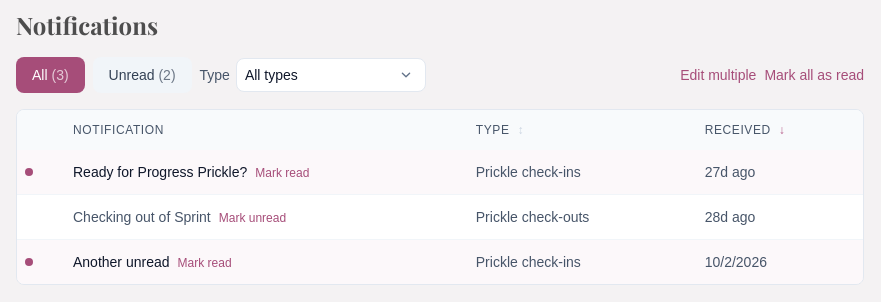
Test: /notifications › opening an unread one marks it read; Mark all as read marks the rest
Expected: the button "Unread (2)" is shown, [93,57,192,93]
Click the link "Ready for Progress Prickle?".
click(160, 172)  # box [73,164,247,180]
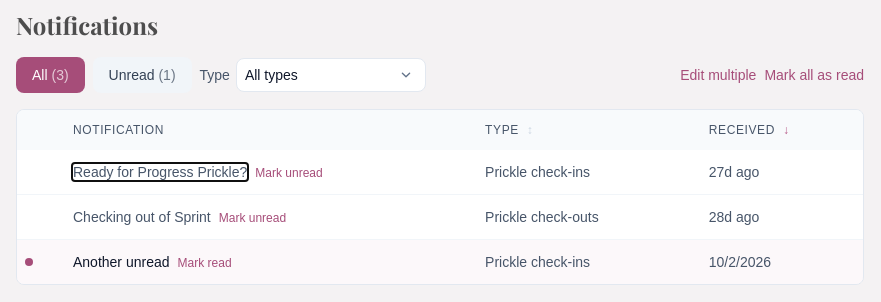
Expected: the button "Unread (1)" is shown, [93,57,192,93]
Click the button "Mark all as read".
click(814, 75)  # box [764,65,864,85]
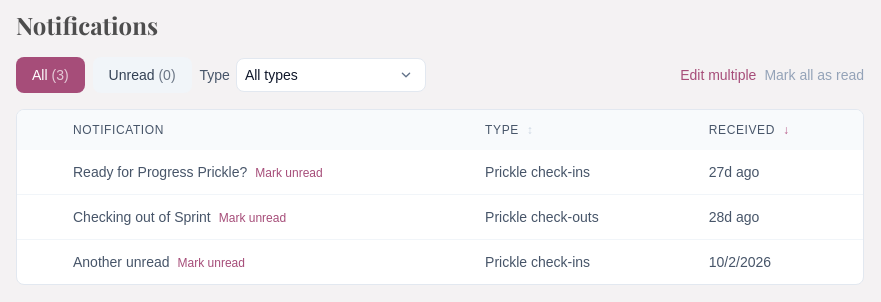
Expected: the button "Unread (0)" is shown, [93,57,192,93]
